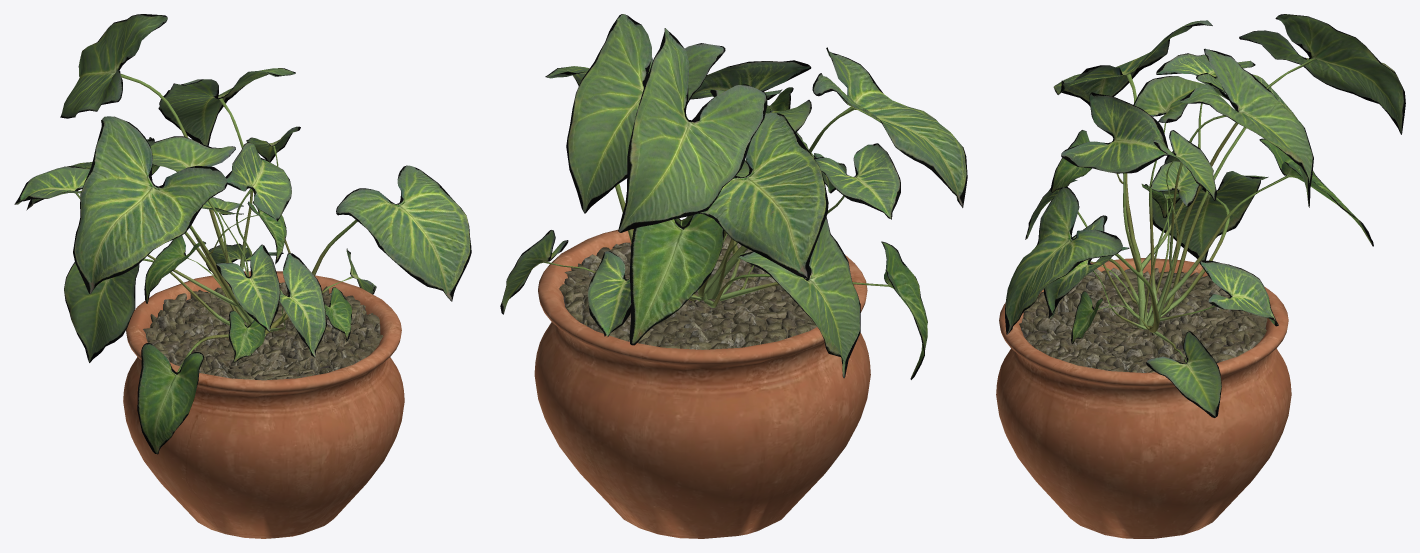
Rendered from plant-potted-philodendron.glb.
3 renders of one model, left to right at view 1: azimuth 30°, elevation 25°; view 2: azimuth 150°, elevation 25°; view 3: azimuth 270°, elevation 25°, orthographic. The views are drawn at different scales.
Visible parts, largest first — view 1: potted_plant_02_leaves, potted_plant_02_pot, potted_plant_02_dirt; view 2: potted_plant_02_leaves, potted_plant_02_pot, potted_plant_02_dirt; view 3: potted_plant_02_leaves, potted_plant_02_pot, potted_plant_02_dirt.
Part boxes in pixels (<box>): potted_plant_02_leaves: <box>14,14,471,454</box>; potted_plant_02_pot: <box>123,271,404,538</box>; potted_plant_02_dirt: <box>143,282,383,380</box>; potted_plant_02_leaves: <box>500,14,967,379</box>; potted_plant_02_pot: <box>534,220,870,538</box>; potted_plant_02_dirt: <box>559,233,816,349</box>; potted_plant_02_leaves: <box>1005,14,1405,417</box>; potted_plant_02_pot: <box>996,258,1291,538</box>; potted_plant_02_dirt: <box>1019,268,1267,372</box>.
Size of the model in its own units: 0.7012 by 0.8412 by 0.6574.
2 materials, 2 textured.
